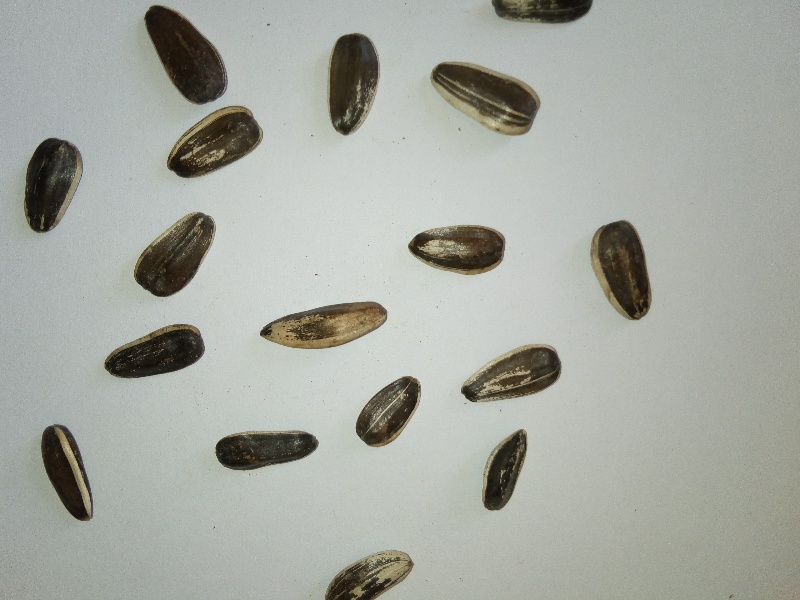girasol: (426, 55, 548, 144), (137, 3, 231, 104), (154, 104, 269, 185), (456, 329, 568, 412), (253, 294, 391, 361), (120, 210, 225, 297), (583, 219, 672, 321), (31, 414, 101, 529), (98, 317, 209, 388), (319, 30, 384, 142), (207, 422, 324, 483), (20, 133, 84, 238), (400, 221, 512, 279), (350, 369, 427, 450), (478, 426, 534, 520), (320, 547, 418, 600)
